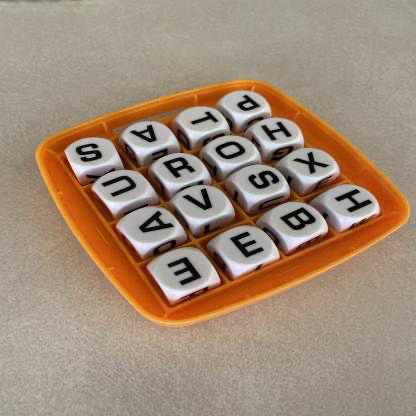a: (136, 209, 179, 243), (123, 120, 168, 148)
b: (275, 204, 322, 239)
e: (156, 253, 214, 292), (225, 226, 271, 265)
h: (330, 186, 378, 220), (256, 118, 301, 145)
o: (211, 137, 252, 164)
p: (227, 91, 268, 117)
r: (158, 155, 202, 184)
s: (241, 167, 287, 193), (75, 141, 114, 167)
t: (184, 107, 222, 131)
u: (99, 174, 144, 203)
v: (176, 186, 221, 218)
x: (290, 149, 336, 179)
